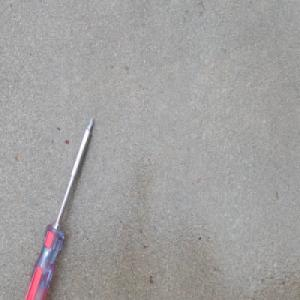Screwdriver: (20, 115, 95, 300)
